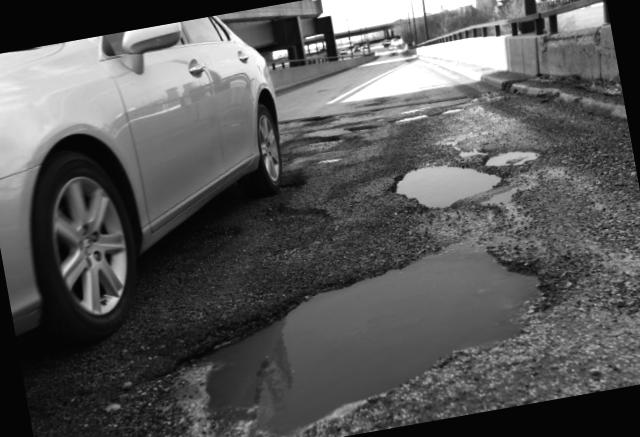Pothole: (7, 192, 578, 437), (17, 79, 342, 297), (380, 149, 510, 230), (466, 132, 542, 180), (275, 123, 350, 161), (338, 116, 380, 142)
